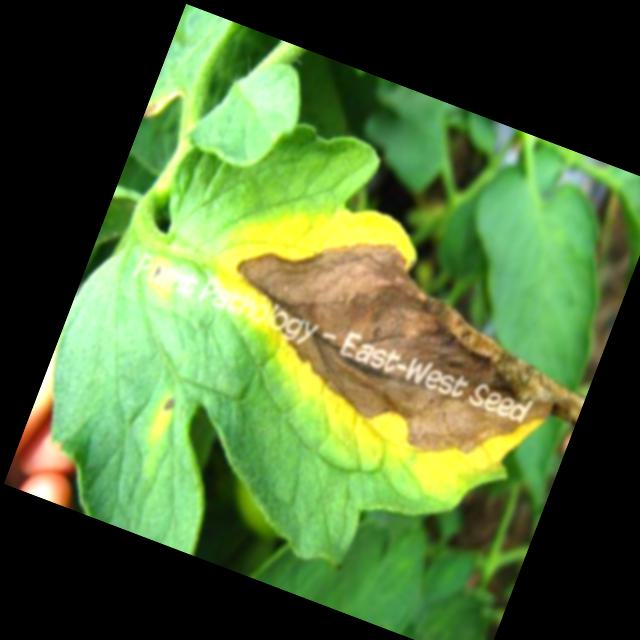Early_blight: (163, 163, 621, 529), (145, 257, 166, 285), (155, 391, 179, 413)
